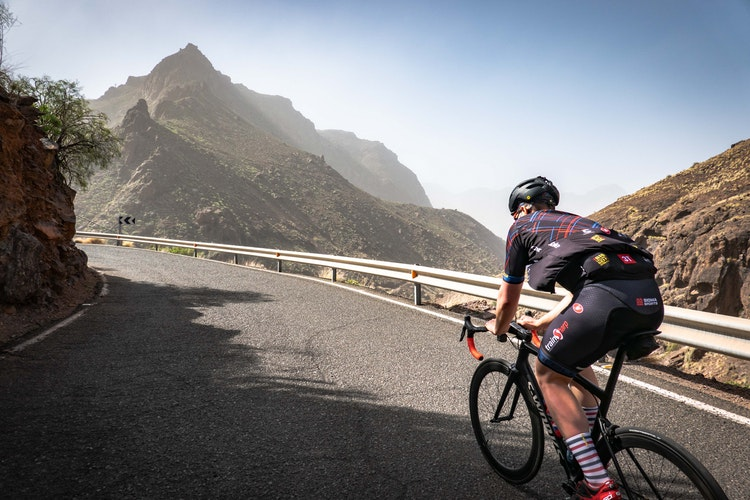helmet: (508, 174, 567, 218)
